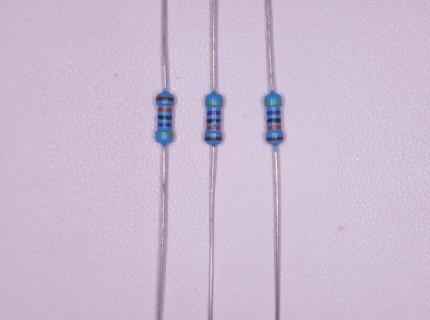Black band: (267, 118, 281, 123), (158, 116, 172, 120), (207, 119, 221, 123)
Brown band: (265, 136, 283, 141), (204, 136, 222, 141), (156, 97, 175, 101)
Orange band: (267, 125, 281, 130), (158, 108, 172, 112), (207, 126, 221, 130)
Violet band: (158, 122, 173, 127), (267, 110, 281, 115), (207, 111, 221, 115)
Yellow band: (155, 132, 174, 136), (263, 101, 282, 105), (205, 102, 222, 105)
